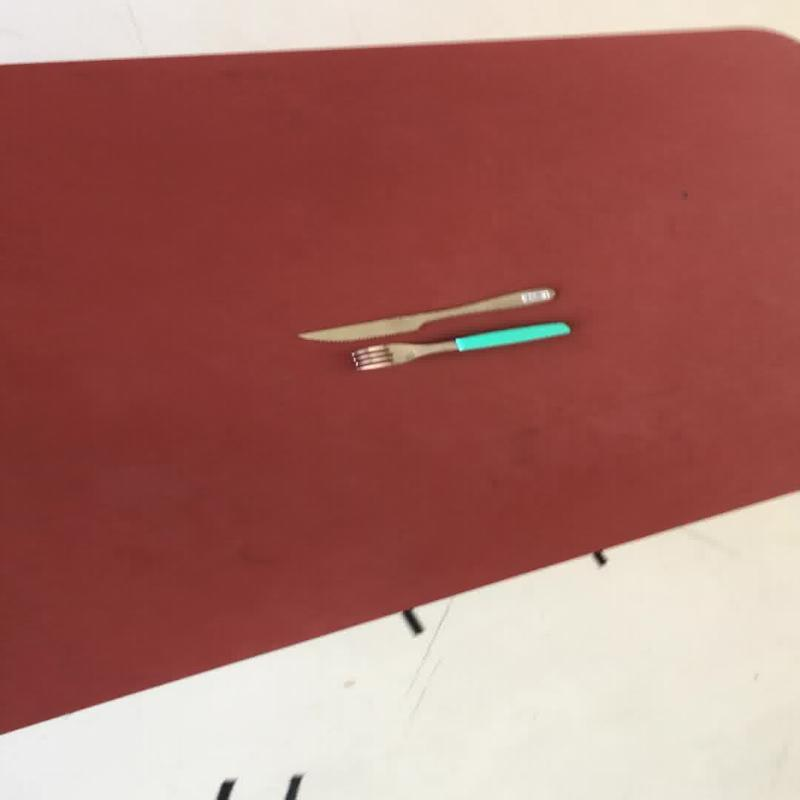fork: (348, 320, 571, 372)
knife: (294, 285, 556, 343)
